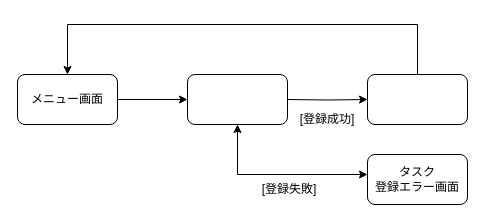
Image size: 485x222. Some labels were removed from this diagram. Here are the shapes that lost their labels. From the top down, the centre of each, then its label:
At (237,99): "タスク 登録画面".
At (417,99): "タスク 登録完了画面".
